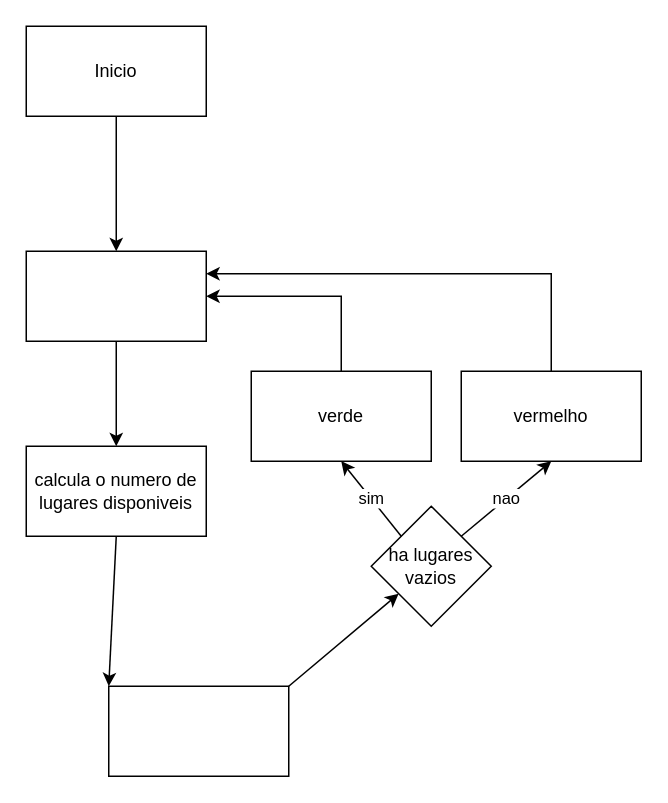
Image size: 668x803. Some labels were removed from this diagram. The centre of each missing label's shape, as x and y in pixels:
atualiza os leds e o display de 7 segmentos: point 198,730
le todos os sensores: point 115,295
